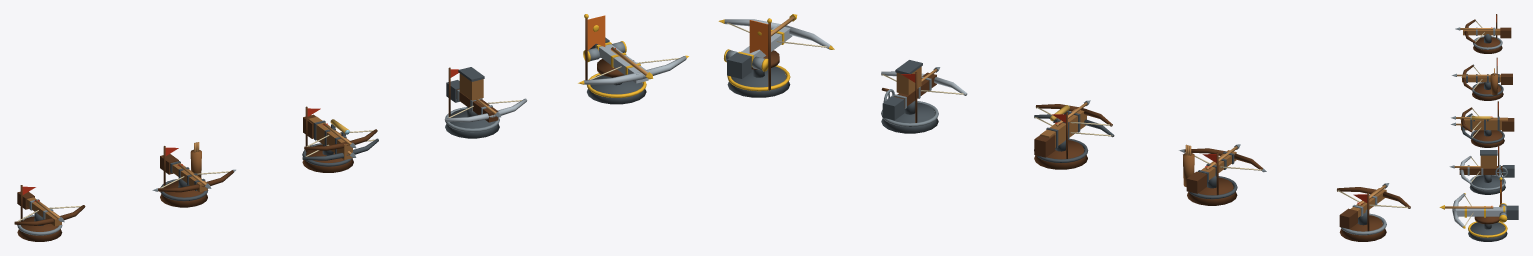
Rendered from arbaletes.glb.
The picture shows the model from 3 angles, left to right: view 1: azimuth 30°, elevation 25°; view 2: azimuth 150°, elevation 25°; view 3: azimuth 270°, elevation 25°; orthographic projection. The views are drawn at different scales.
Visible parts, largest first — view 1: socle.004, socle.003, socle.001, fut.002, fut.004, socle.002, socle, banniere, chargeur, arc.010, fut.003; view 2: socle.004, socle.003, socle.002, socle.001, socle, banniere, fut.002, crosse.004, crosse.003, chargeur, crosse.002, fut.004 (+2 smaller); view 3: socle.004, socle.003, fut.002, socle.002, fut.004, socle, socle.001, fut.003, chargeur, fut, crosse.004, plateau (+28 smaller).
Part boxes in pixels (bbox=[...]): socle.004: bbox=[587, 74, 646, 104]; socle.003: bbox=[445, 108, 499, 138]; socle.001: bbox=[160, 180, 207, 207]; fut.002: bbox=[308, 117, 352, 159]; fut.004: bbox=[599, 44, 648, 83]; socle.002: bbox=[302, 144, 353, 172]; socle: bbox=[17, 216, 62, 241]; banniere: bbox=[587, 15, 605, 50]; chargeur: bbox=[459, 73, 483, 100]; arc.010: bbox=[584, 72, 643, 84]; fut.003: bbox=[456, 89, 498, 122]; socle.004: bbox=[727, 66, 790, 97]; socle.003: bbox=[881, 102, 938, 133]; socle.002: bbox=[1034, 140, 1087, 169]; socle.001: bbox=[1187, 177, 1237, 205]; socle: bbox=[1339, 215, 1386, 241]; banniere: bbox=[749, 20, 768, 56]; fut.002: bbox=[1040, 109, 1086, 147]; crosse.004: bbox=[727, 52, 751, 78]; crosse.003: bbox=[882, 96, 904, 120]; chargeur: bbox=[896, 66, 921, 95]; crosse.002: bbox=[1034, 134, 1055, 157]; fut.004: bbox=[741, 25, 792, 57]; socle.004: bbox=[1468, 222, 1507, 241]; socle.003: bbox=[1469, 175, 1505, 194]; fut.002: bbox=[1461, 117, 1507, 130]; socle.002: bbox=[1471, 130, 1504, 147]; fut.004: bbox=[1453, 207, 1506, 216]; socle: bbox=[1473, 37, 1502, 53]; socle.001: bbox=[1472, 83, 1503, 100]; fut.003: bbox=[1459, 166, 1502, 174]; chargeur: bbox=[1480, 155, 1496, 168]; fut: bbox=[1463, 28, 1500, 35]; crosse.004: bbox=[1506, 205, 1518, 219]; plateau: bbox=[1474, 216, 1499, 224].
Bounding box in the file's own units: 9.27 × 1 × 1.44.
